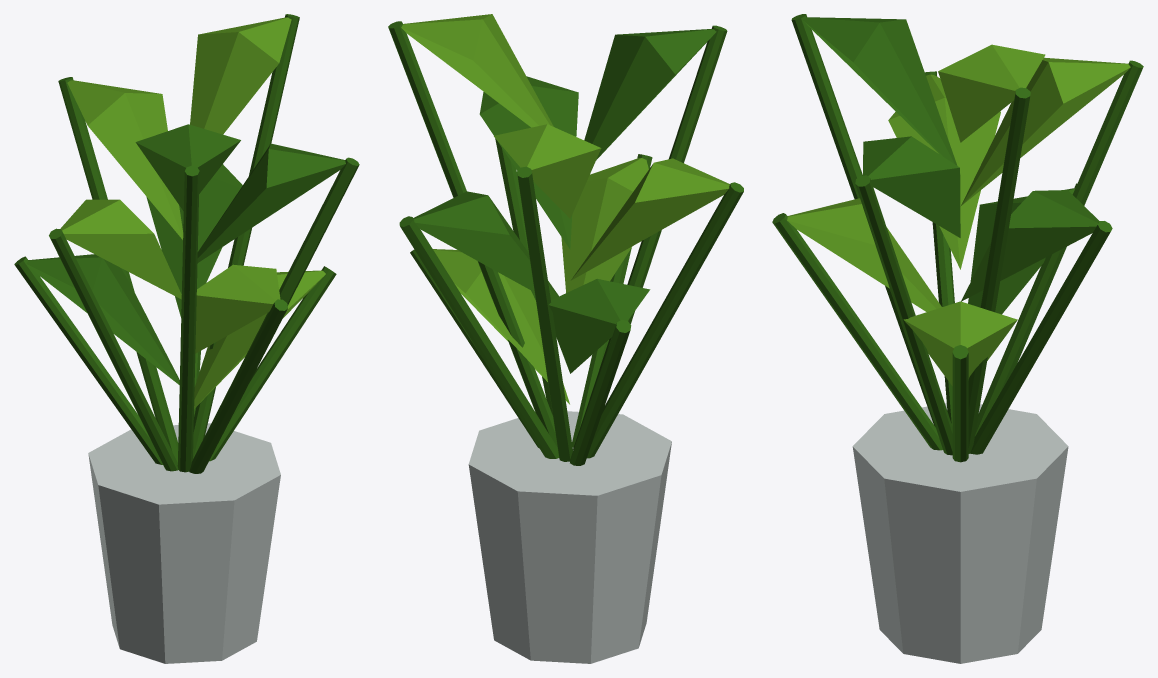
Rendered from LargePlant.fbx.
The picture shows the model from 3 angles, left to right: view 1: azimuth 30°, elevation 25°; view 2: azimuth 150°, elevation 25°; view 3: azimuth 270°, elevation 25°; orthographic projection. The views are drawn at different scales.
Parts seen in each view (by area): view 1: LargePlant; view 2: LargePlant; view 3: LargePlant.
Part boxes in pixels (x1,y1,x2,y2): LargePlant: [14, 14, 359, 663]; LargePlant: [388, 14, 743, 663]; LargePlant: [772, 14, 1143, 663].
Size of the model in its own units: 66.69 by 122 by 66.06.
Materials: 1 (1 with a texture image).
